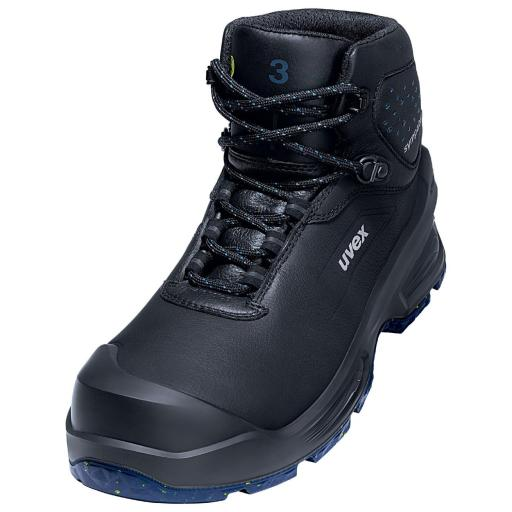safety_boots: (56, 153, 446, 501)
